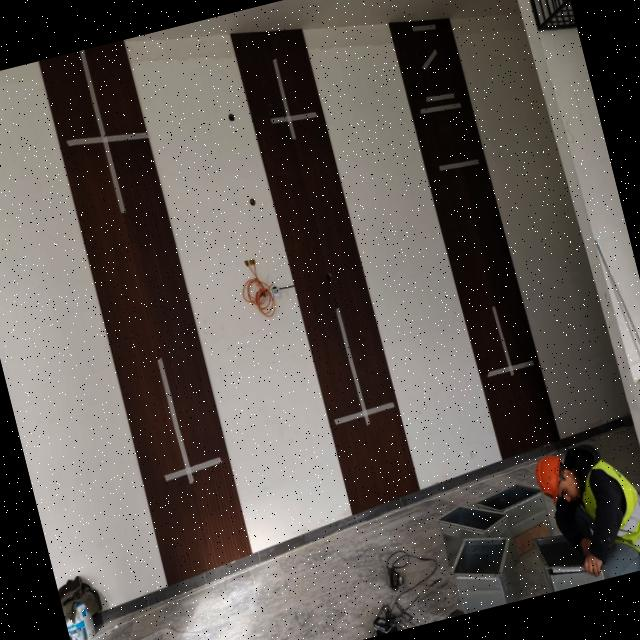Helmet: (531, 447, 587, 515)
